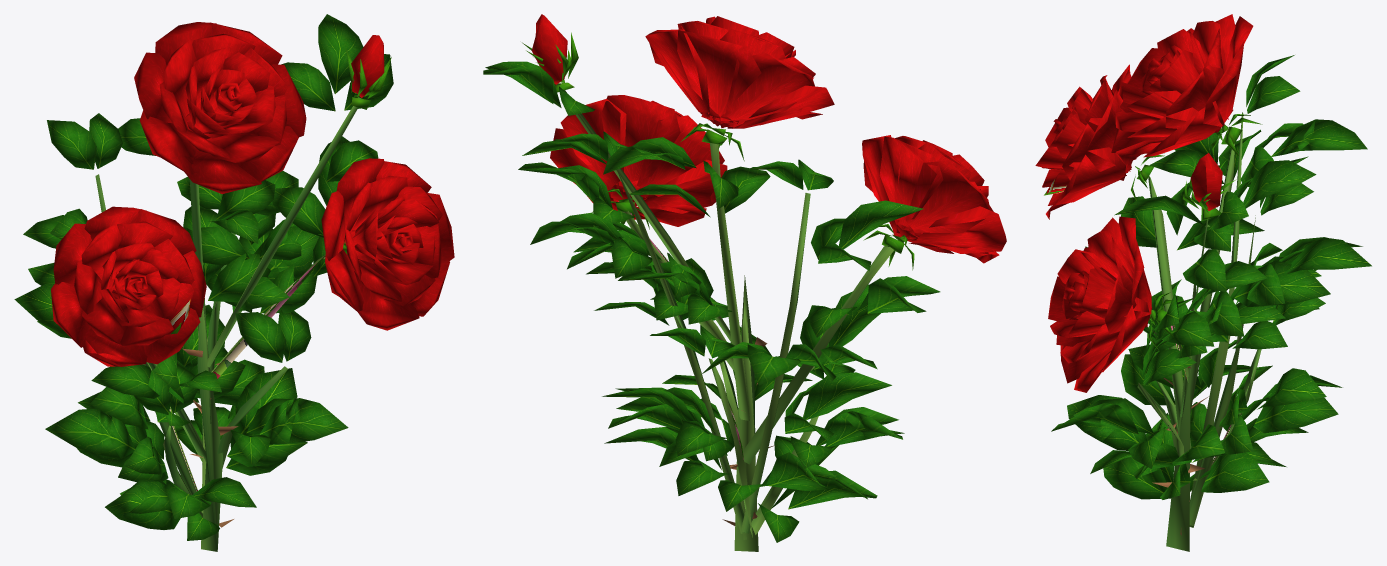
The model's file is NP_Rose_Ready_LOD1.fbx.
The picture shows the model from 3 angles, left to right: view 1: azimuth 30°, elevation 25°; view 2: azimuth 150°, elevation 25°; view 3: azimuth 270°, elevation 25°; orthographic projection. The views are drawn at different scales.
Visible parts, largest first — view 1: NP_Rose_Ready; view 2: NP_Rose_Ready; view 3: NP_Rose_Ready.
Part boxes in pixels (<box>): NP_Rose_Ready: <box>14,14,454,551</box>; NP_Rose_Ready: <box>483,14,1006,551</box>; NP_Rose_Ready: <box>1035,14,1371,551</box>.
Bounding box in the file's own units: 73.18 × 84.85 × 49.54.
